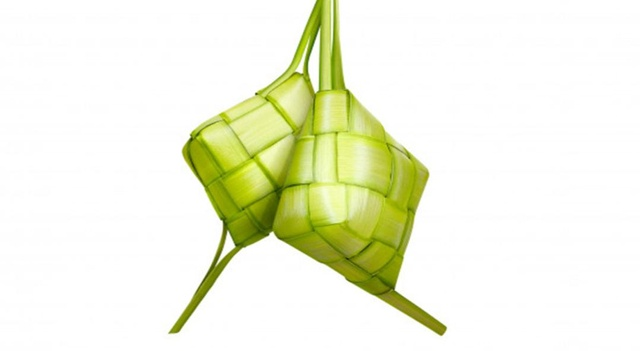ketupat: (273, 90, 431, 294)
